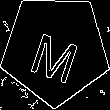M_N: (27, 18, 84, 81)
